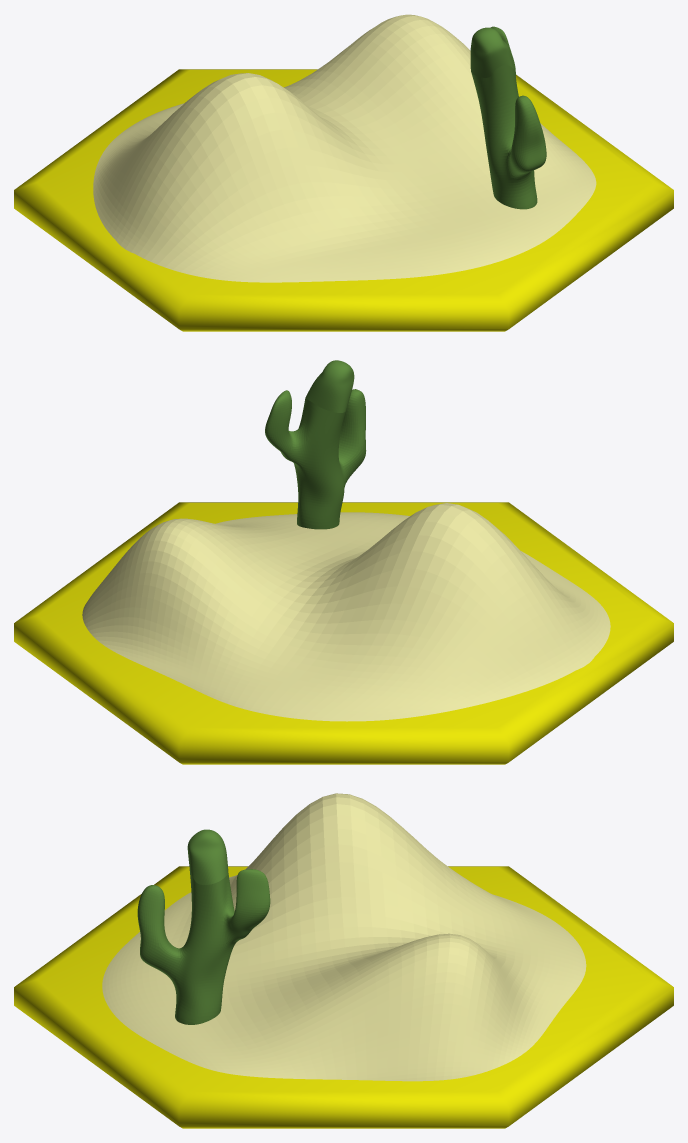
Rendered from desert.fbx.
3 renders of one model, top to bottom at view 1: azimuth 30°, elevation 25°; view 2: azimuth 150°, elevation 25°; view 3: azimuth 270°, elevation 25°, orthographic.
Parts seen in each view (by area): view 1: Cube; view 2: Cube; view 3: Cube.
Boxes of the visible parts, left/top/right/bottom form: Cube: left=14, top=14, right=673, bottom=331; Cube: left=14, top=360, right=673, bottom=764; Cube: left=14, top=793, right=673, bottom=1128.
Size of the model in its own units: 482 by 207 by 557.
